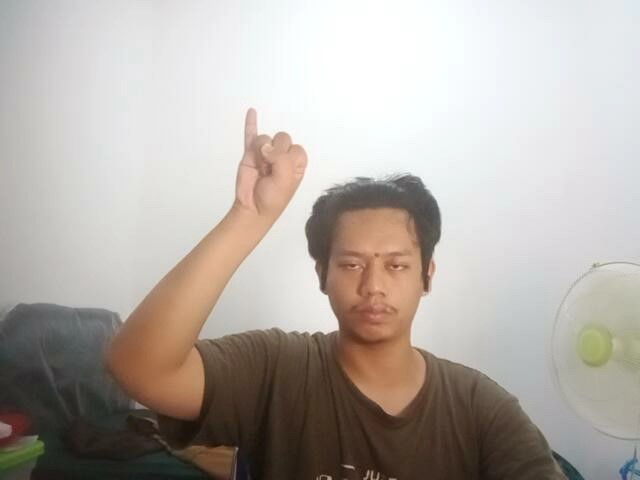I: (214, 97, 313, 223)
